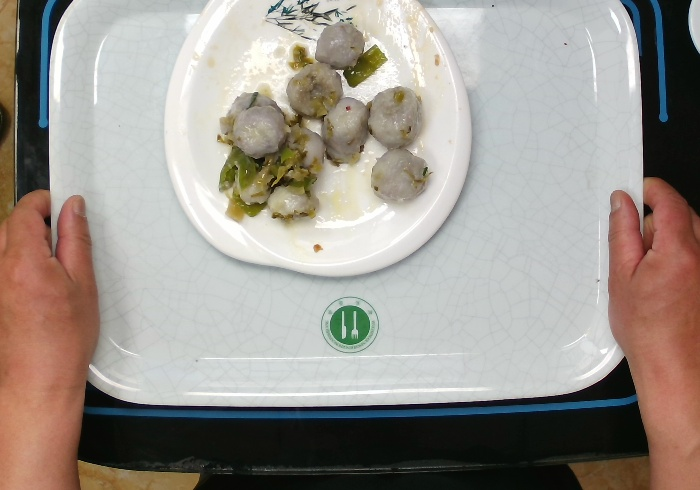JYsf-Mian_Pan: (160, 1, 474, 279)
